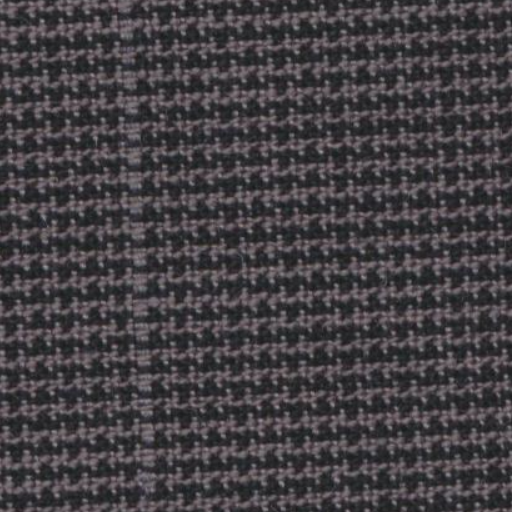TuoSha: (93, 4, 184, 498)
